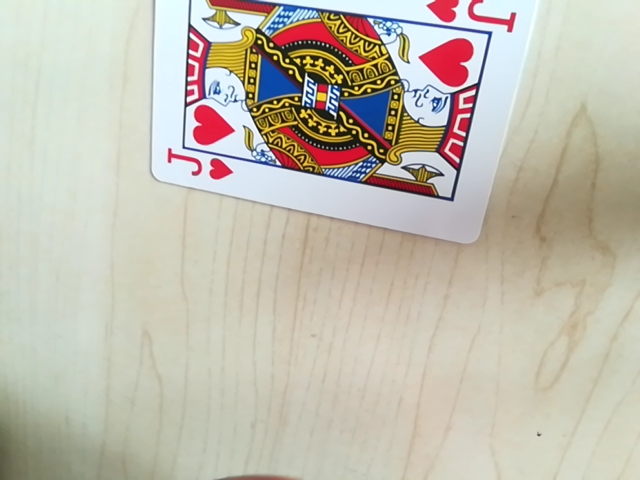hx j: (429, 0, 524, 31), (164, 149, 235, 188)
